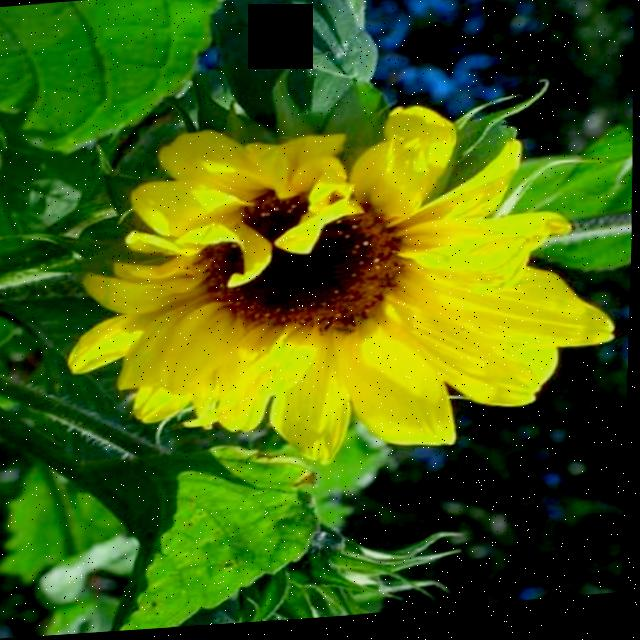sunflower: (9, 46, 638, 502)
